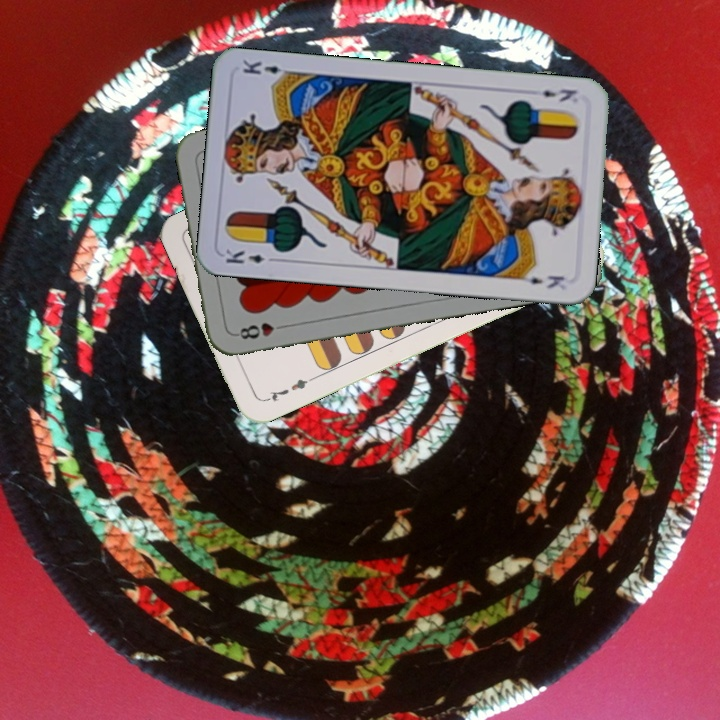E7: (260, 373, 316, 405)
EK: (221, 245, 280, 267), (538, 84, 580, 105)
H8: (231, 318, 290, 342)
